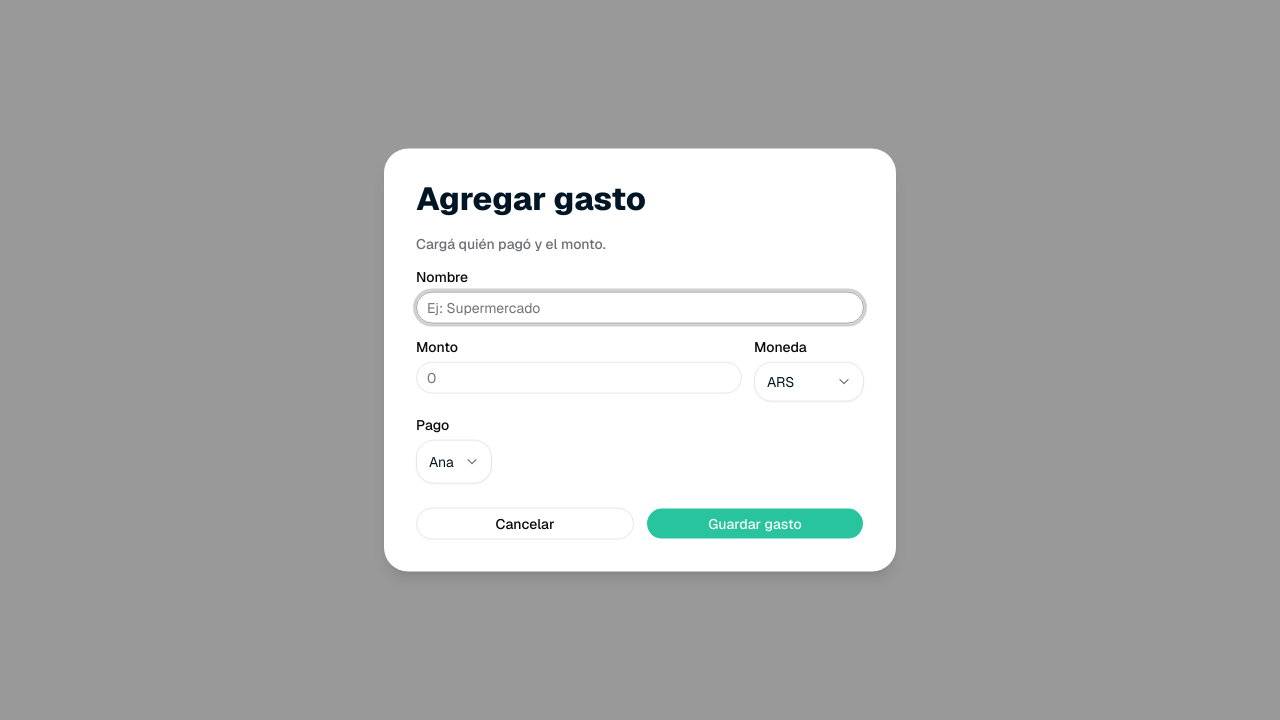
Test case: AddExpenseDialog › deja el diálogo abierto cuando el alta responde 400
Type "Supermercado" into the field labelled "Nombre".
click(640, 307); type("Supermercado")  # box [416,291,864,323]
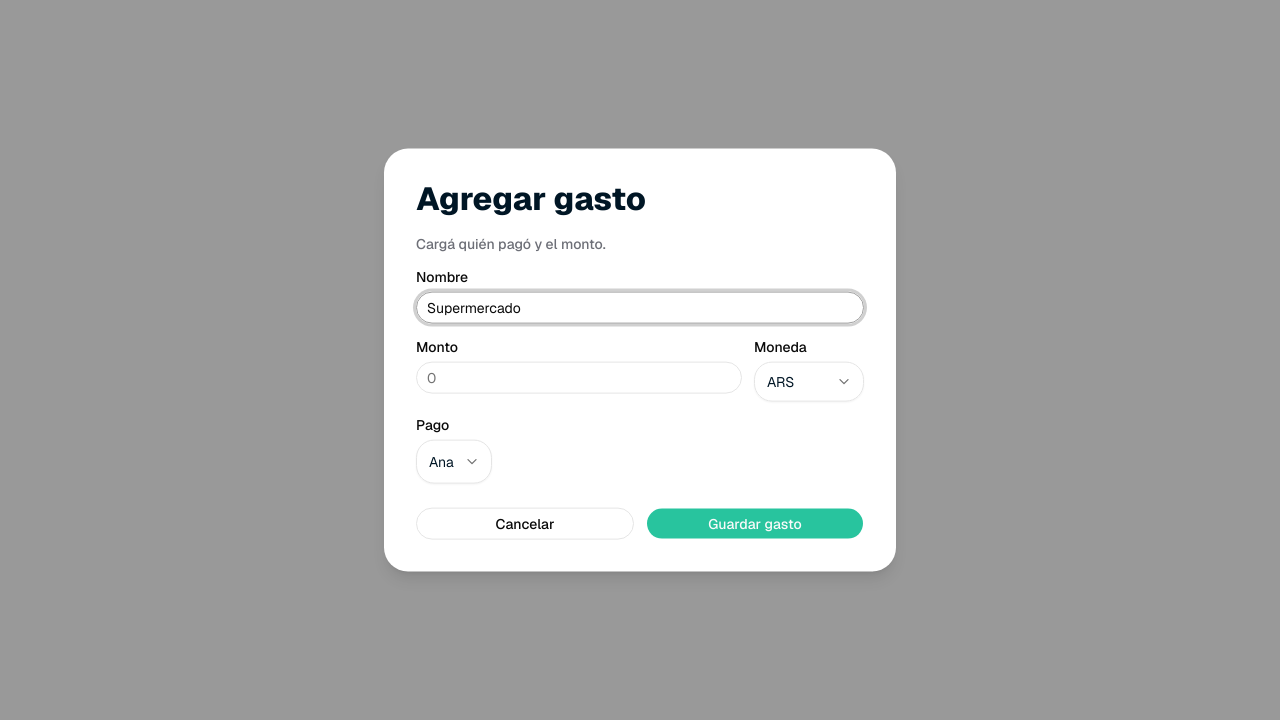
Type "5" into the field labelled "Monto".
click(579, 377); type("5")  # box [416,361,742,393]
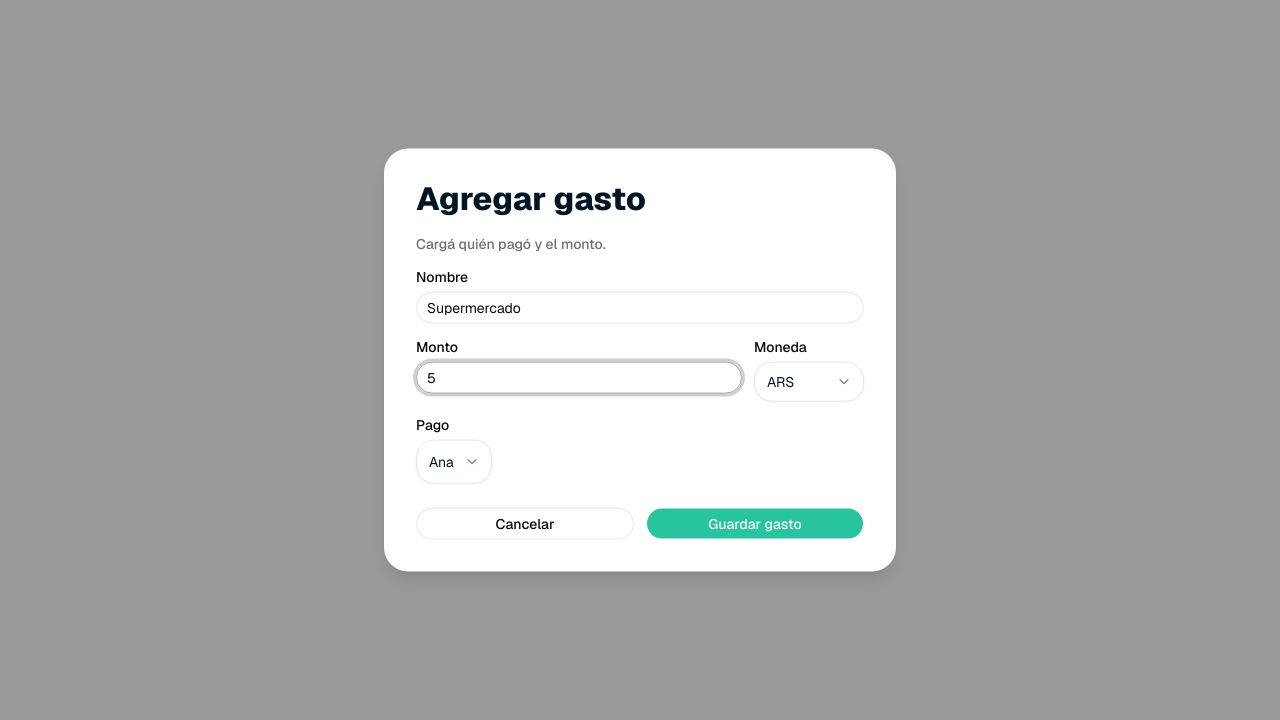
Click the button "Guardar gasto".
click(755, 523)  # box [646,507,864,539]
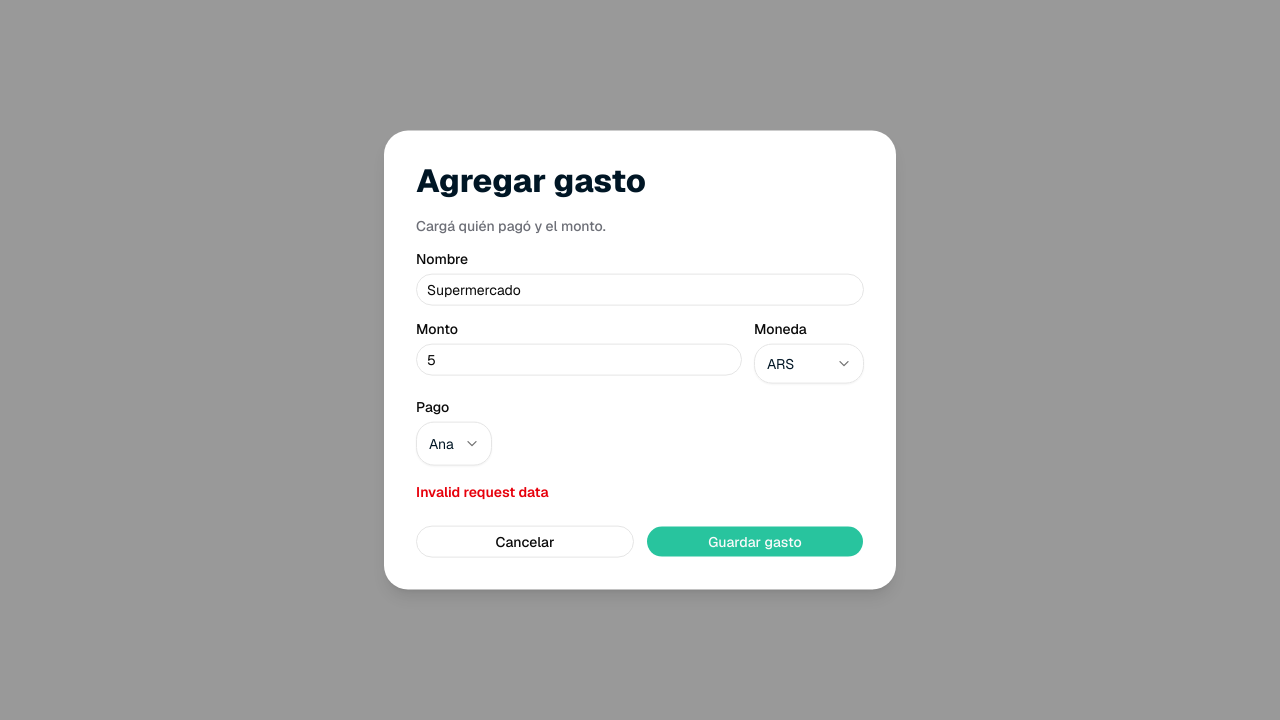
Expected: the dialog "Agregar gasto" is shown, [384,131,896,589]
Expected: the message reads "Invalid request data", [416,482,549,500]
